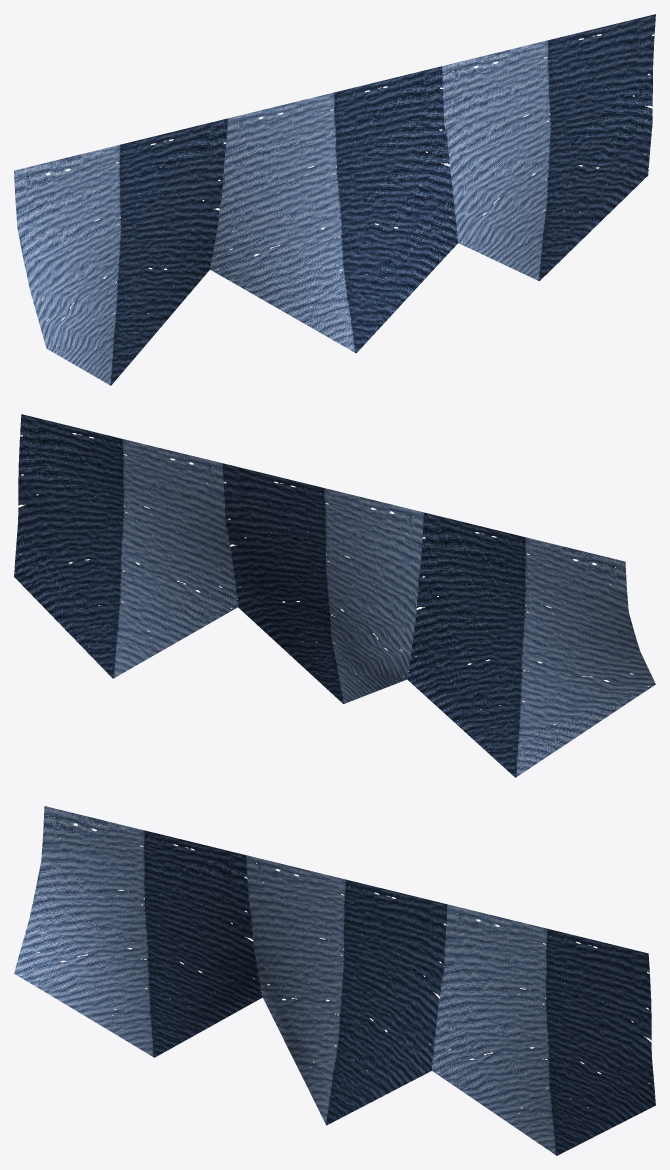
Rendered from mm9_deco_bannercw.glb.
3 renders of one model, top to bottom at view 1: azimuth 30°, elevation 25°; view 2: azimuth 150°, elevation 25°; view 3: azimuth 330°, elevation 25°, orthographic. The views are drawn at different scales.
Visible parts, largest first — view 1: Bannercw; view 2: Bannercw; view 3: Bannercw.
Boxes of the visible parts, x1,y1,x2,y2 form: Bannercw: (14,14,655,385); Bannercw: (14,414,655,777); Bannercw: (14,806,655,1155).
Bounding box in the file's own units: 8.02 × 2.97 × 1.09.
Materials: 1 (1 with a texture image).
